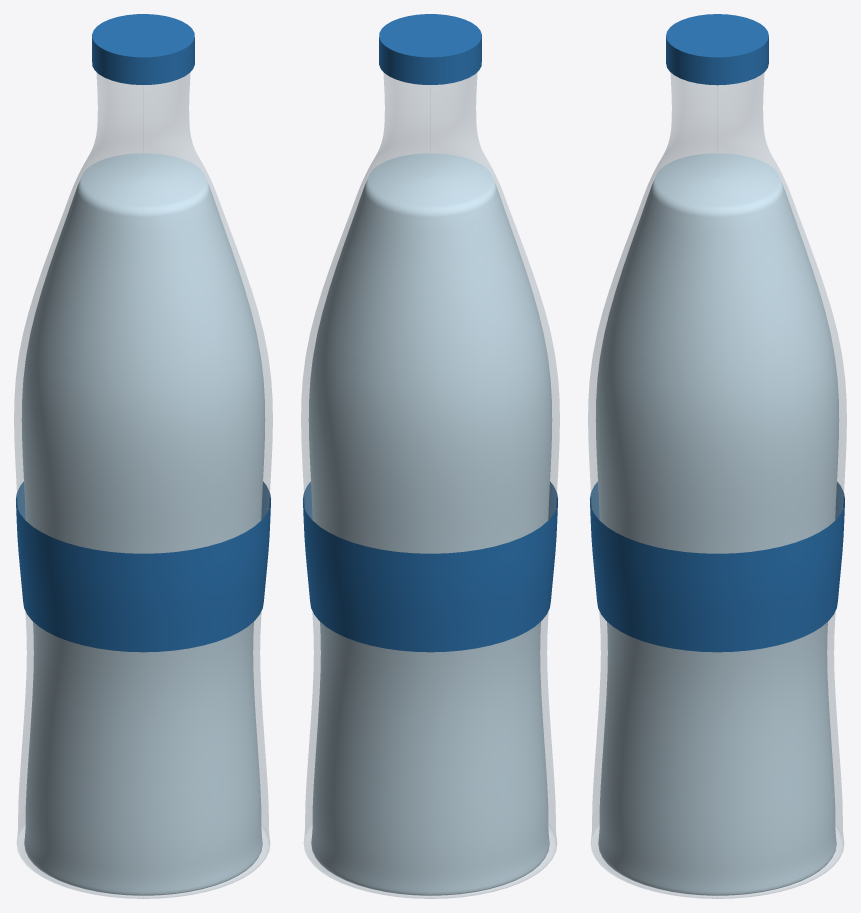
File: agua.glb
3 renders of one model, left to right at view 1: azimuth 30°, elevation 25°; view 2: azimuth 150°, elevation 25°; view 3: azimuth 270°, elevation 25°, orthographic.
Visible parts, largest first — view 1: vidrio, liquido, etiqueta, tapa; view 2: vidrio, liquido, etiqueta, tapa; view 3: vidrio, liquido, etiqueta, tapa.
Part boxes in pixels (box(x1,y1,x2,y2)): vidrio: box(14, 72, 272, 898); liquido: box(21, 153, 265, 895); etiqueta: box(16, 481, 270, 652); tapa: box(92, 14, 194, 84); vidrio: box(301, 72, 559, 898); liquido: box(308, 153, 552, 895); etiqueta: box(303, 481, 557, 652); tapa: box(379, 14, 481, 84); vidrio: box(588, 72, 846, 898); liquido: box(595, 153, 839, 895); etiqueta: box(590, 481, 844, 652); tapa: box(666, 14, 768, 85).
Bounding box in the file's own units: 0.0681 × 0.237 × 0.0681.
